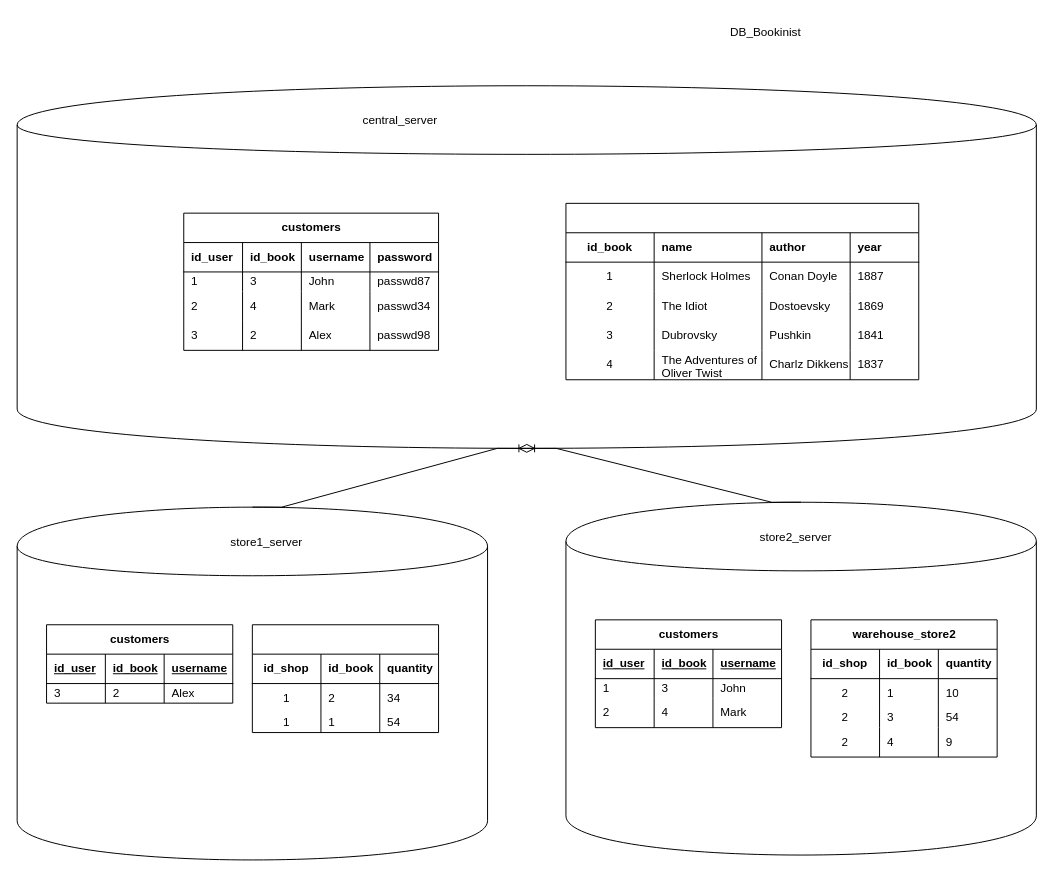
Some shapes in this 1054 by 877 pixel diagram are drawn without their labels. Each missing label, with the box of its shape:
books: (565, 202, 919, 380)
warehouse_store1: (251, 624, 439, 733)
